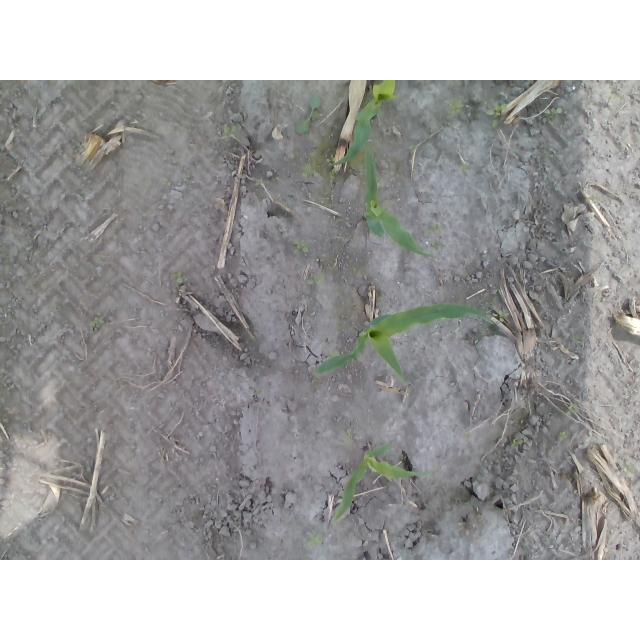Maize: (310, 301, 495, 388), (360, 146, 436, 258), (332, 440, 433, 520), (333, 80, 399, 165)
Weeds: (295, 97, 321, 135), (486, 101, 508, 127), (443, 97, 464, 115), (622, 461, 637, 480), (291, 239, 309, 254), (326, 153, 335, 179), (545, 106, 564, 118), (308, 533, 323, 548), (606, 91, 622, 105), (493, 310, 510, 323), (307, 274, 325, 286), (222, 125, 237, 139), (300, 164, 316, 177), (169, 270, 183, 283), (426, 223, 442, 234), (89, 317, 105, 328), (343, 427, 353, 443), (566, 404, 579, 416), (556, 431, 569, 442), (542, 147, 554, 158), (510, 437, 523, 447), (429, 242, 439, 251), (161, 178, 171, 187), (459, 163, 468, 173), (408, 144, 417, 153), (182, 173, 191, 182), (253, 388, 263, 396), (574, 337, 582, 344), (523, 541, 530, 549), (255, 179, 263, 185), (400, 454, 406, 460), (465, 435, 471, 441)
